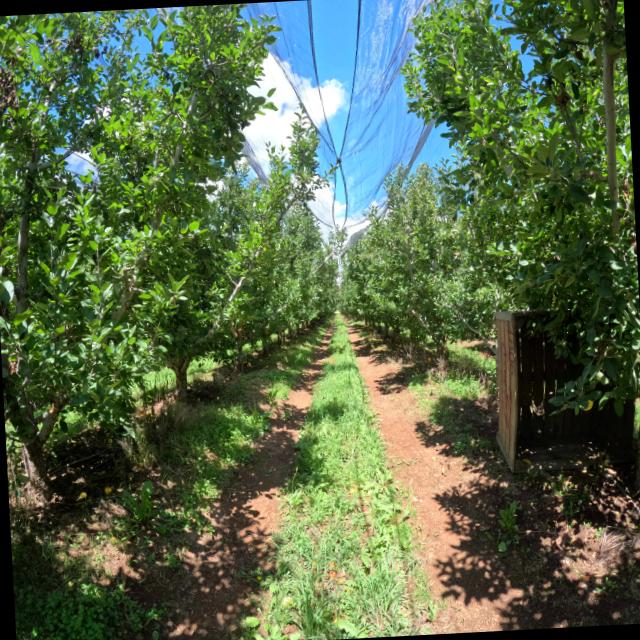-FireBlight-: (43, 32, 110, 59), (0, 57, 19, 122)
